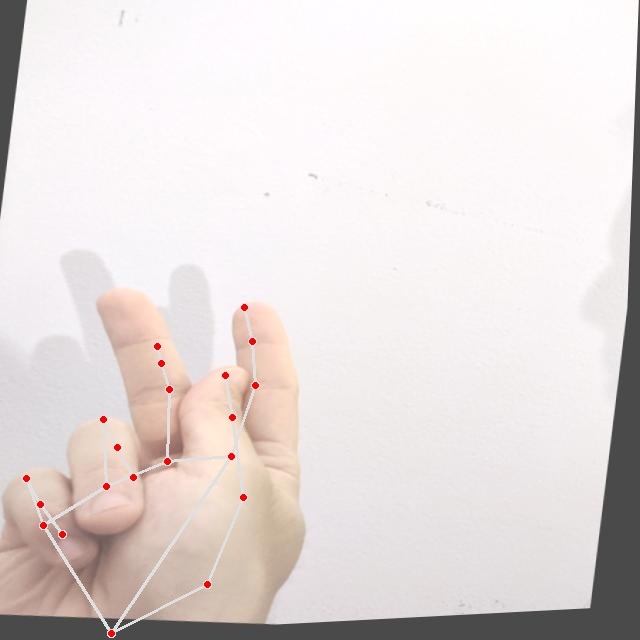K: (0, 259, 358, 639)
